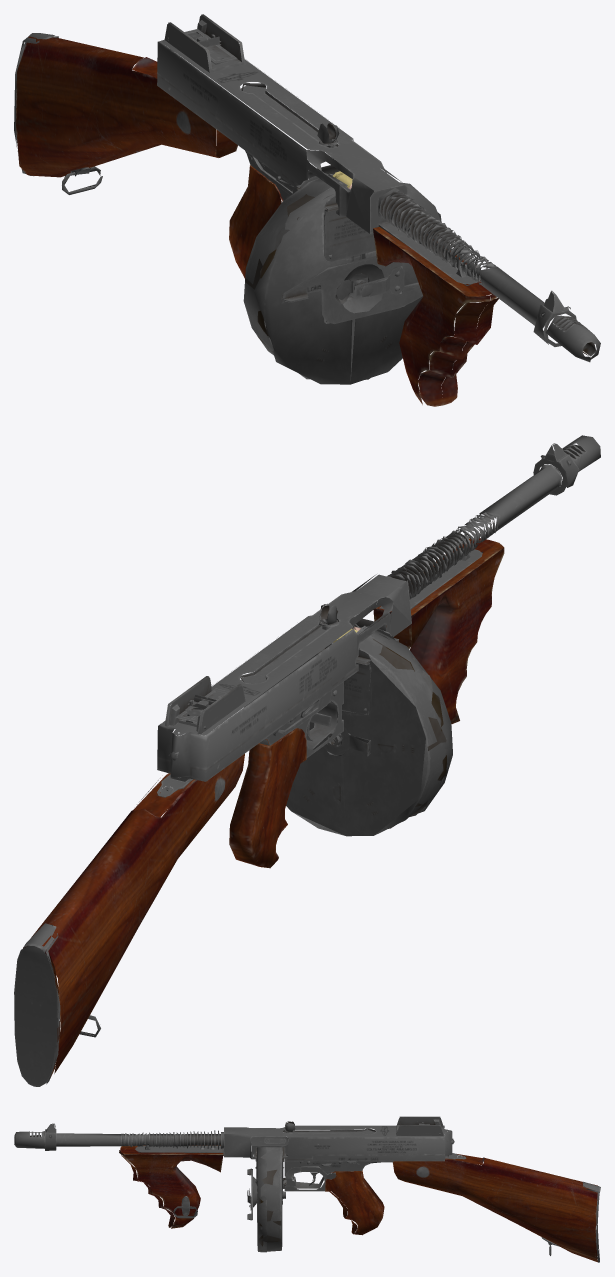
File: smg.glb
3 views of the same model, one above another, from view 1: azimuth 30°, elevation 25°; view 2: azimuth 150°, elevation 25°; view 3: azimuth 270°, elevation 25° (orthographic). The views are drawn at different scales.
Parts seen in each view (by area): view 1: smg; view 2: smg; view 3: smg.
Part boxes in pixels (x1,y1,x2,y2): smg: (14, 14, 600, 406); smg: (14, 435, 600, 1086); smg: (14, 1116, 600, 1262).
Bounding box in the file's own units: 0.17 × 0.2293 × 0.8619.
Materials: 3 (3 with a texture image).
